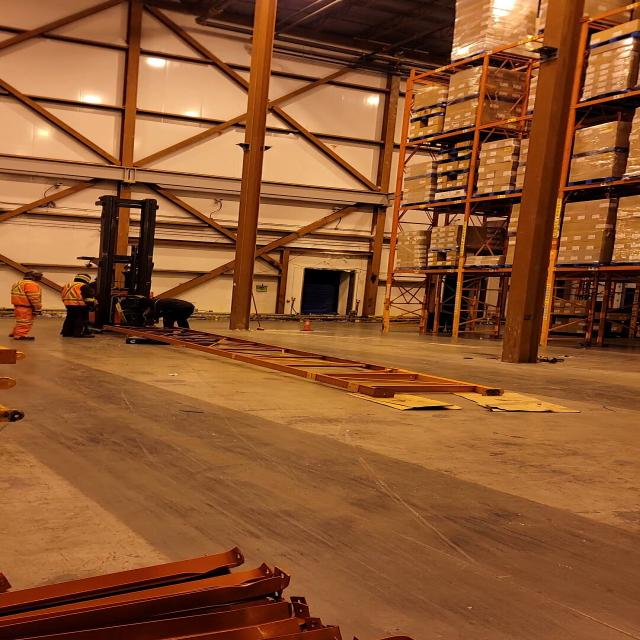forklift: (68, 198, 172, 334)
human: (6, 270, 51, 343), (59, 273, 99, 339), (147, 295, 206, 333), (85, 269, 132, 295)
objectofinterest: (90, 319, 516, 399), (443, 382, 587, 415), (340, 388, 466, 412), (121, 333, 173, 348)
